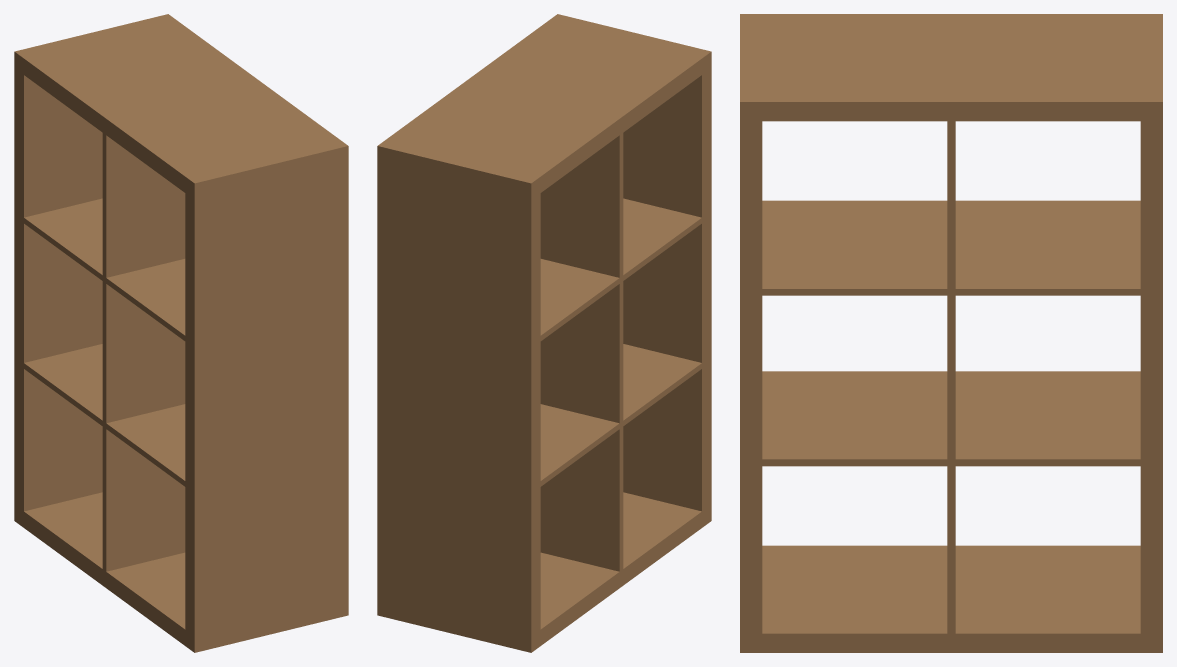
File: rack_4.FBX
3 renders of one model, left to right at view 1: azimuth 30°, elevation 25°; view 2: azimuth 150°, elevation 25°; view 3: azimuth 270°, elevation 25°, orthographic. The views are drawn at different scales.
Parts seen in each view (by area): view 1: rack_4; view 2: rack_4; view 3: rack_4.
Part boxes in pixels (box(x1,y1,x2,y2)): rack_4: box(14, 14, 348, 652); rack_4: box(377, 14, 711, 652); rack_4: box(740, 14, 1162, 652).
Size of the model in its own units: 0.3901 by 1.14 by 0.7913.
